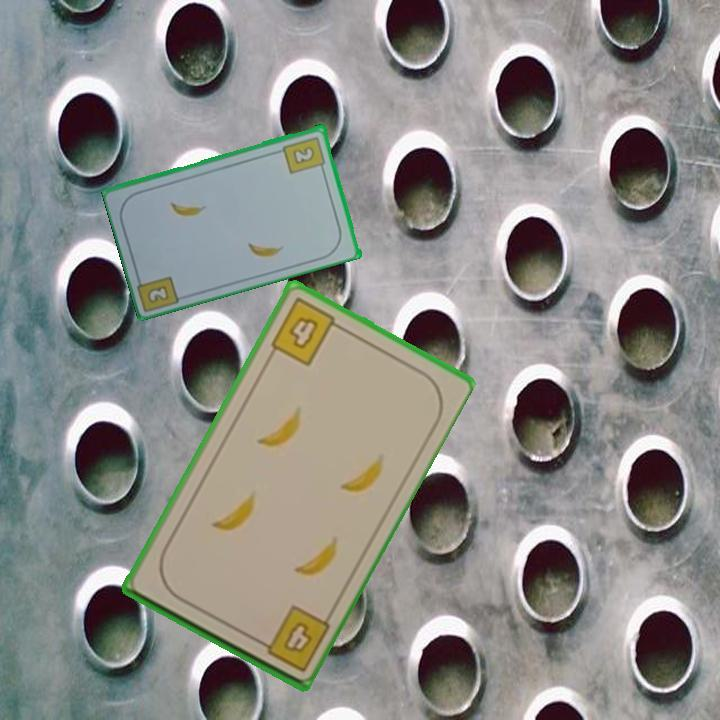2b: (280, 133, 328, 176), (144, 282, 172, 306)
4b: (266, 293, 346, 369), (251, 601, 333, 675)
